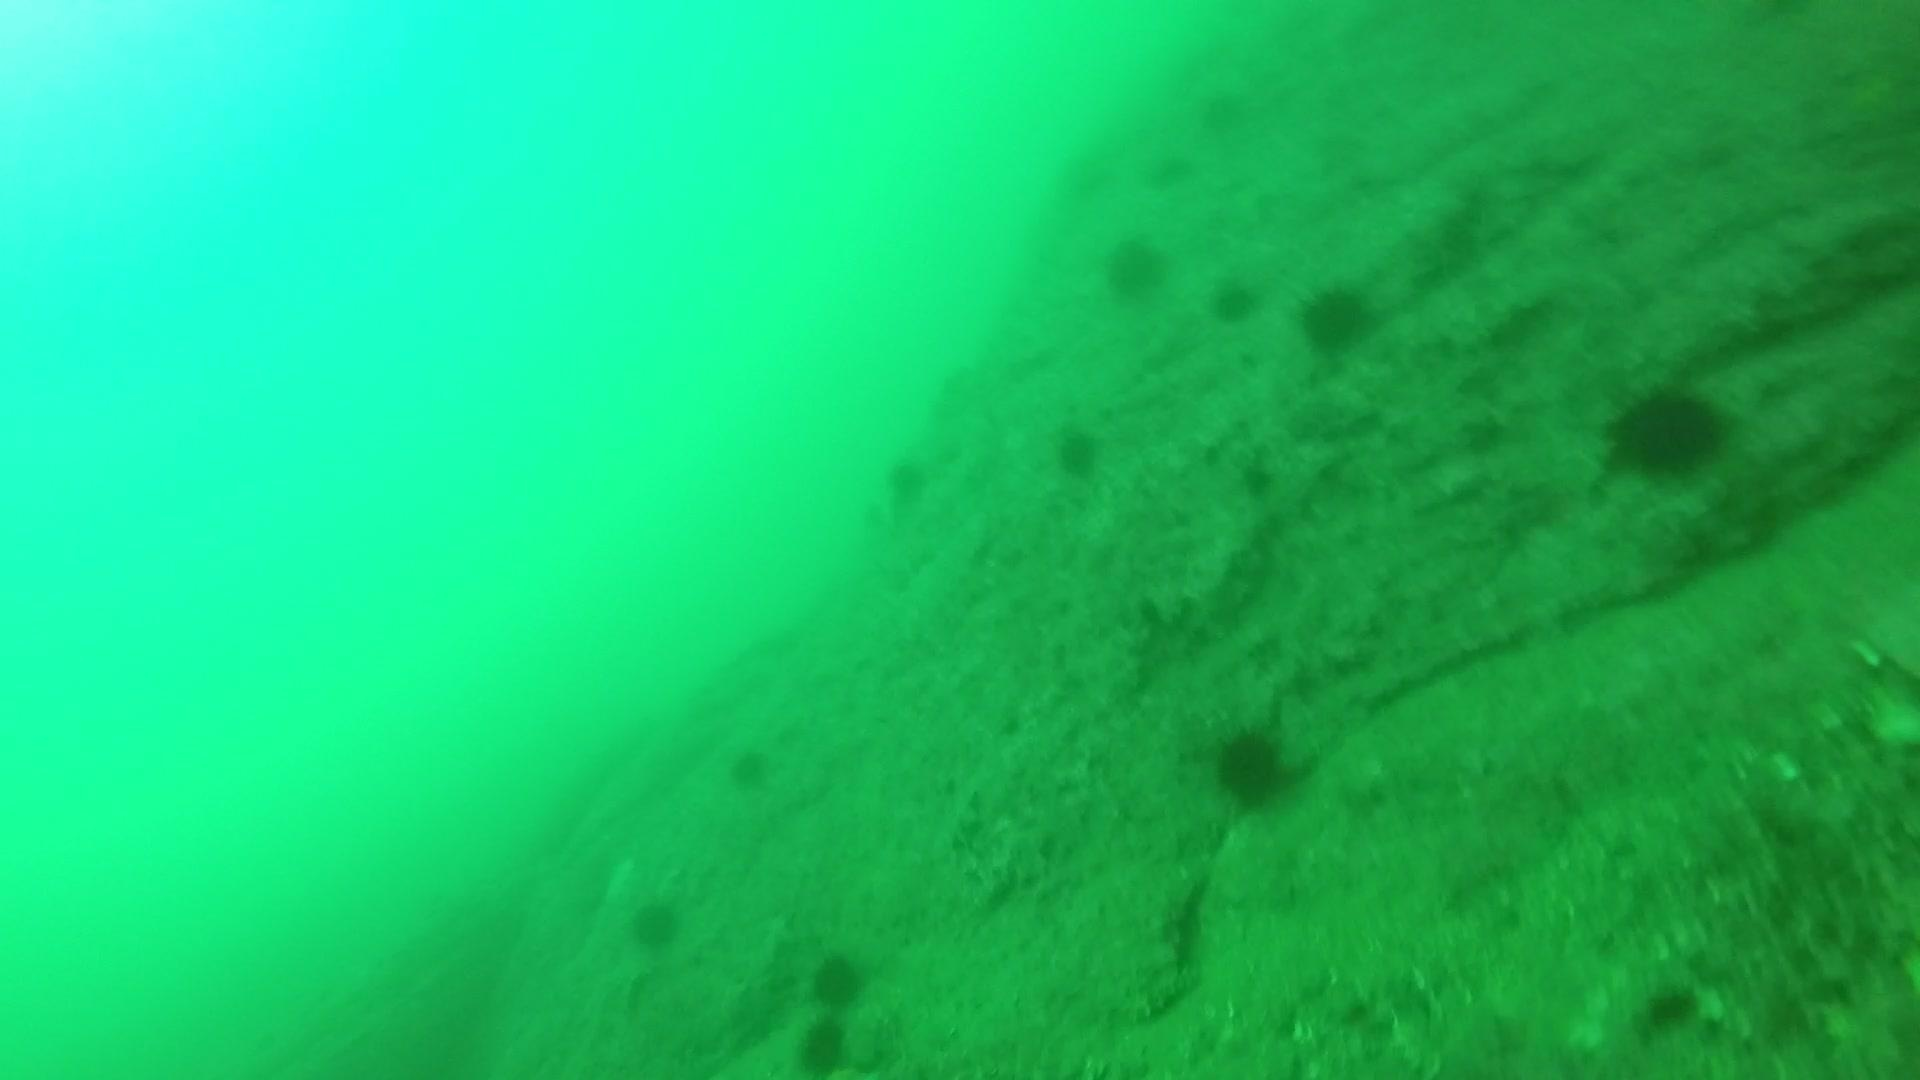echinus: (1601, 377, 1733, 483), (1204, 717, 1299, 814), (1292, 277, 1379, 357), (1097, 229, 1172, 302), (803, 945, 874, 1013), (790, 1013, 856, 1077), (622, 891, 688, 955), (1046, 419, 1109, 483), (878, 448, 938, 510), (1204, 272, 1265, 327), (721, 740, 779, 795)
